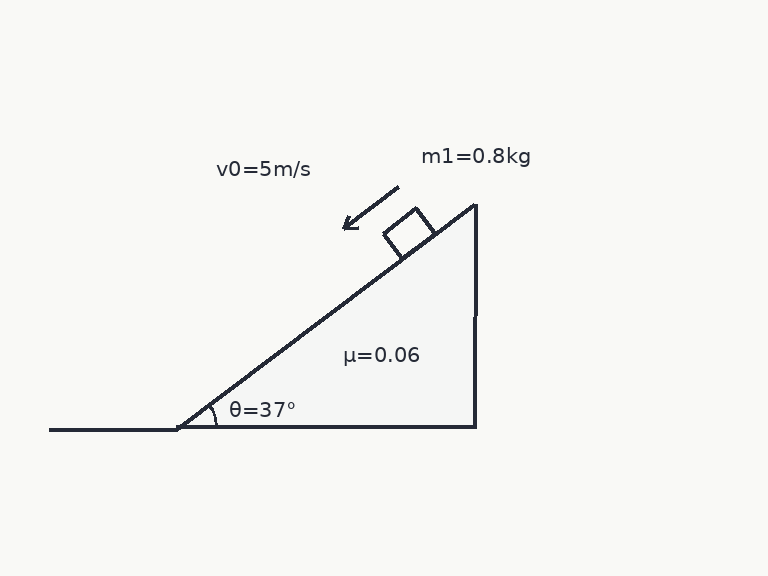block: (381, 207, 436, 260)
ramp: (174, 202, 476, 430)
